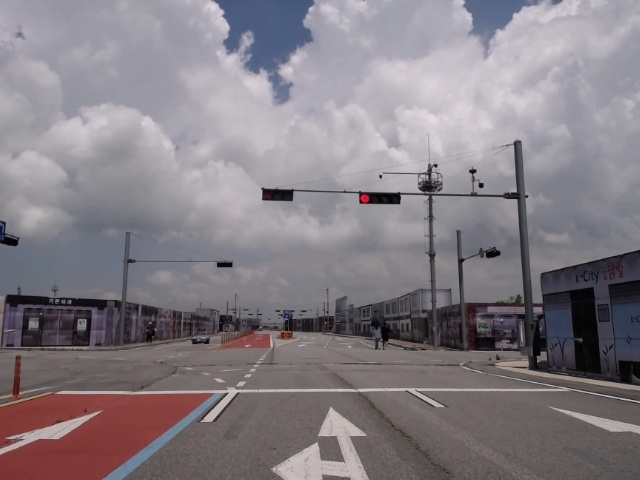red_4: (359, 193, 400, 204)
